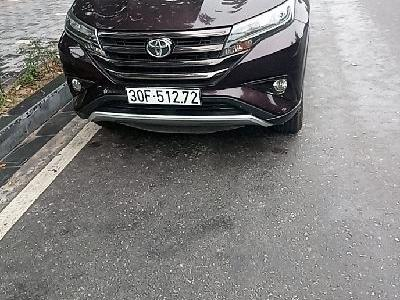car: (124, 85, 202, 109)
